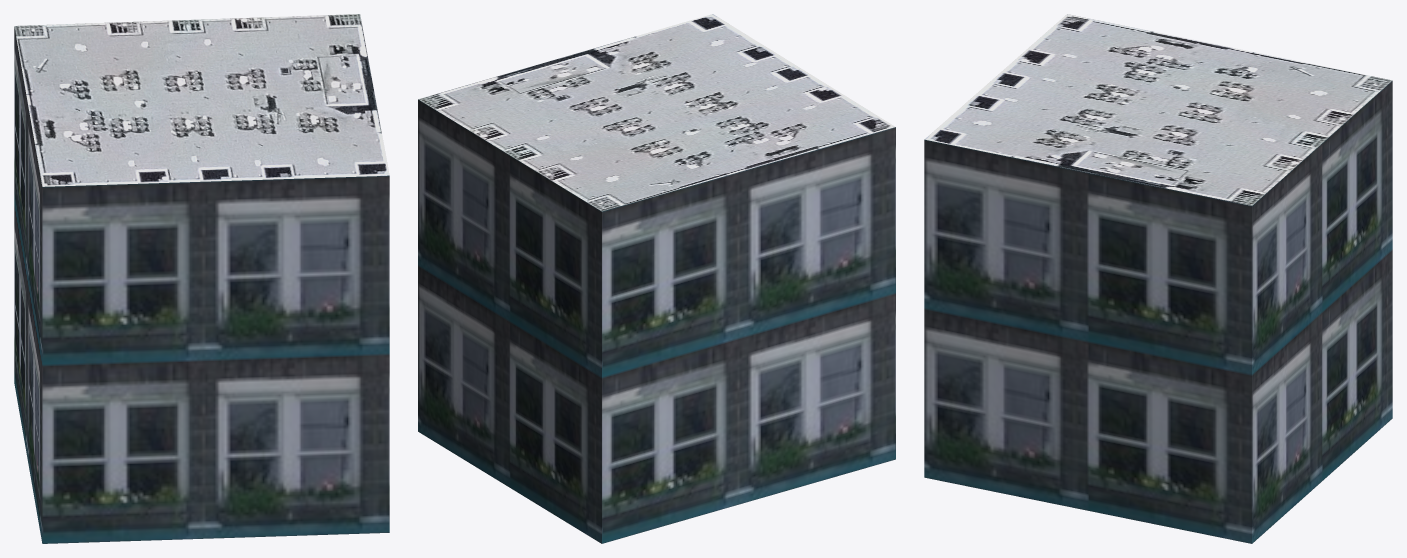
File: ResTex__903.fbx
3 renders of one model, left to right at view 1: azimuth 30°, elevation 25°; view 2: azimuth 150°, elevation 25°; view 3: azimuth 270°, elevation 25°, orthographic. The views are drawn at different scales.
Visible parts, largest first — view 1: CityEngineMaterial_11_m, CityEngineMaterial_8_m; view 2: CityEngineMaterial_11_m, CityEngineMaterial_8_m; view 3: CityEngineMaterial_11_m, CityEngineMaterial_8_m.
Part boxes in pixels (left/top/right/bottom): CityEngineMaterial_11_m: left=14, top=27, right=389, bottom=543; CityEngineMaterial_8_m: left=14, top=14, right=389, bottom=186; CityEngineMaterial_11_m: left=418, top=99, right=895, bottom=543; CityEngineMaterial_8_m: left=418, top=14, right=895, bottom=211; CityEngineMaterial_11_m: left=924, top=81, right=1392, bottom=543; CityEngineMaterial_8_m: left=924, top=14, right=1392, bottom=205.
Size of the model in its own units: 7.31 by 6 by 7.53.
2 materials, 2 textured.
